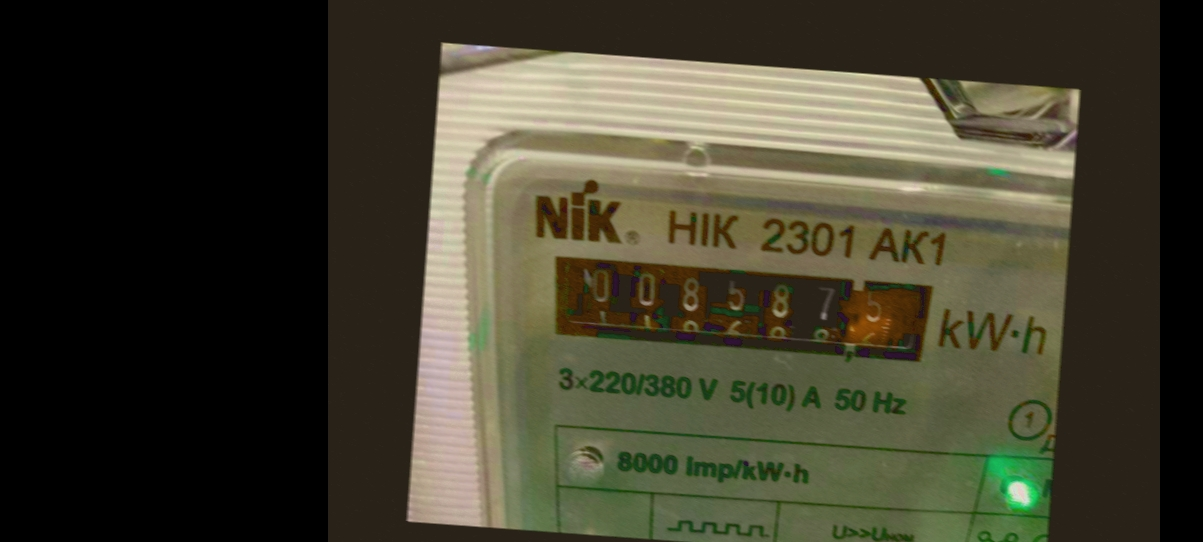0: (633, 267, 660, 308)
1: (587, 263, 614, 306)
5: (862, 284, 889, 326), (724, 274, 750, 314)
7: (813, 282, 839, 324)
8: (677, 272, 705, 315), (769, 279, 793, 321)
screen: (529, 234, 954, 384)
